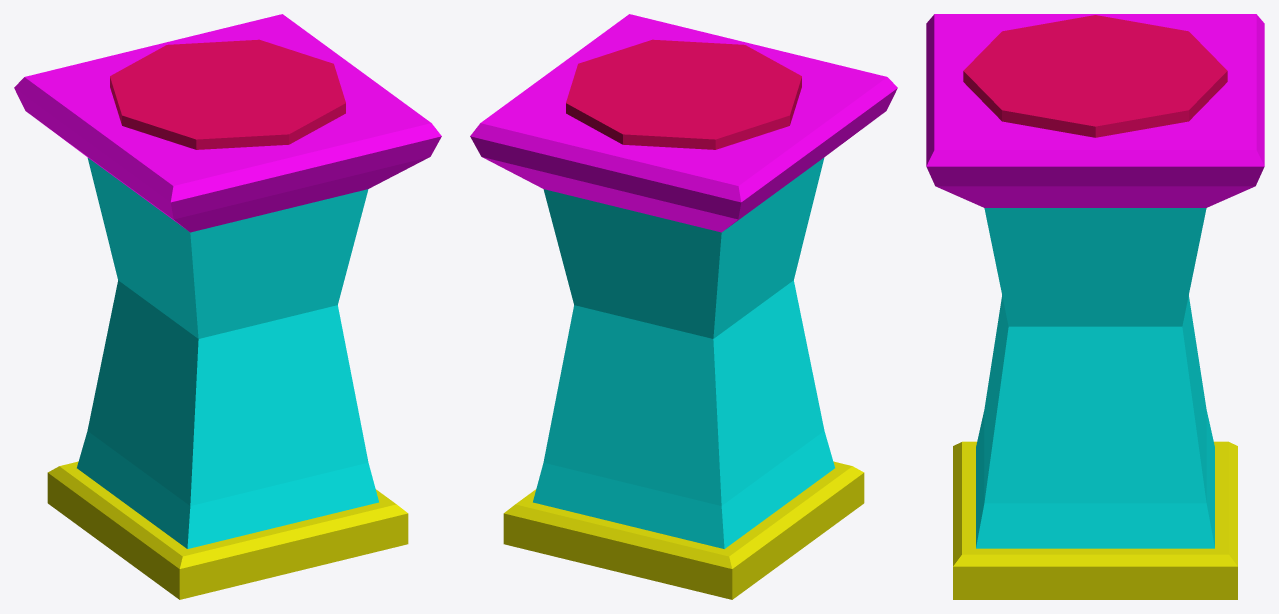
Rendered from SUPPORT_STATUE.fbx.
3 renders of one model, left to right at view 1: azimuth 30°, elevation 25°; view 2: azimuth 150°, elevation 25°; view 3: azimuth 270°, elevation 25°, orthographic. The views are drawn at different scales.
Visible parts, largest first — view 1: DECO_1; view 2: DECO_1; view 3: DECO_1.
Boxes of the visible parts, left/top/right/bottom form: DECO_1: left=14, top=14, right=441, bottom=599; DECO_1: left=470, top=14, right=897, bottom=599; DECO_1: left=926, top=14, right=1264, bottom=599.
Size of the model in its own units: 44.11 by 67.46 by 44.11.
